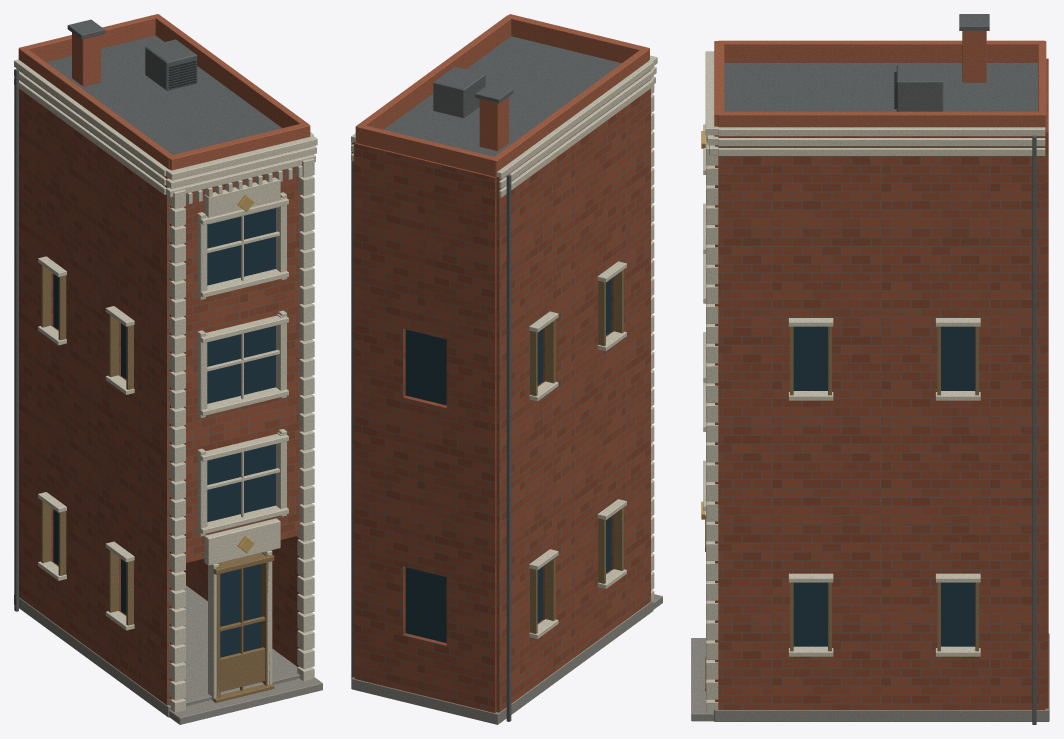
File: OFFC16_lod1.glb
3 renders of one model, left to right at view 1: azimuth 30°, elevation 25°; view 2: azimuth 150°, elevation 25°; view 3: azimuth 270°, elevation 25°, orthographic. The views are drawn at different scales.
Parts seen in each view (by area): view 1: OFFC16_LOD1; view 2: OFFC16_LOD1; view 3: OFFC16_LOD1.
Boxes of the visible parts, x1,y1,x2,y2 form: OFFC16_LOD1: (14,14,322,724); OFFC16_LOD1: (351,14,662,724); OFFC16_LOD1: (691,14,1049,724).
Bounding box in the file's own units: 3.71 × 13.05 × 6.57.
10 materials, 7 textured.
